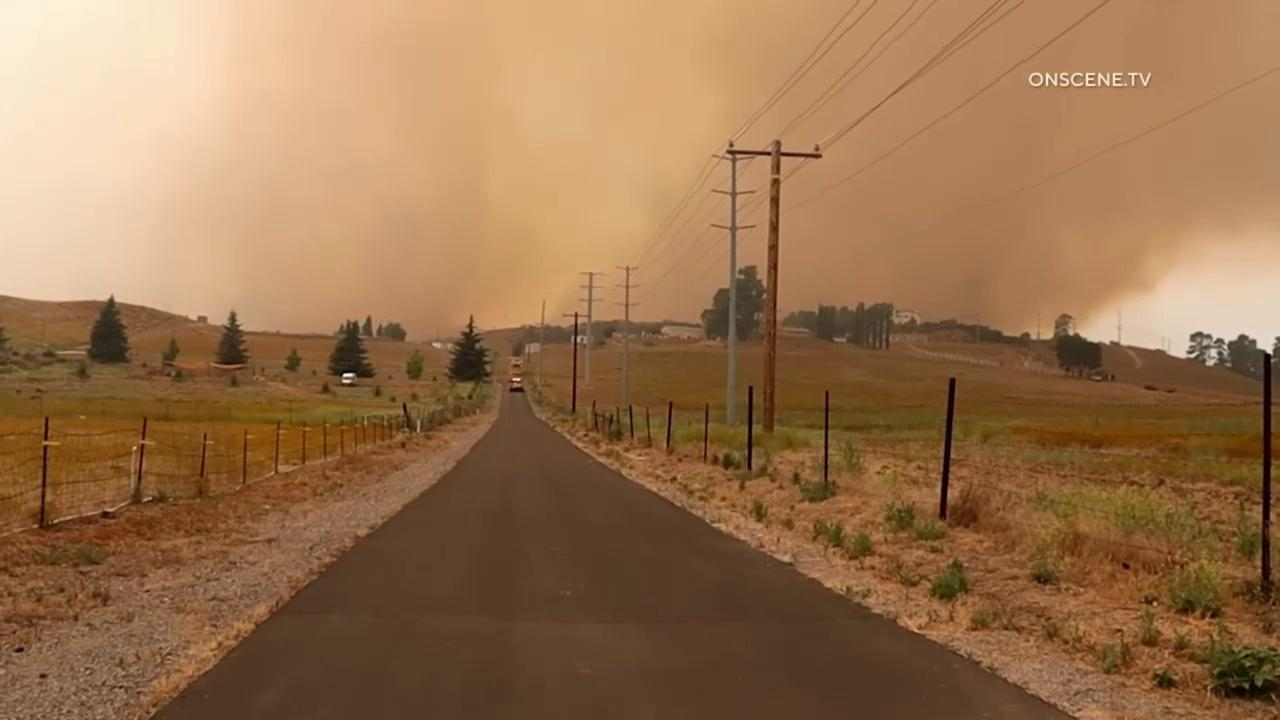smoke: (167, 0, 1280, 340)
